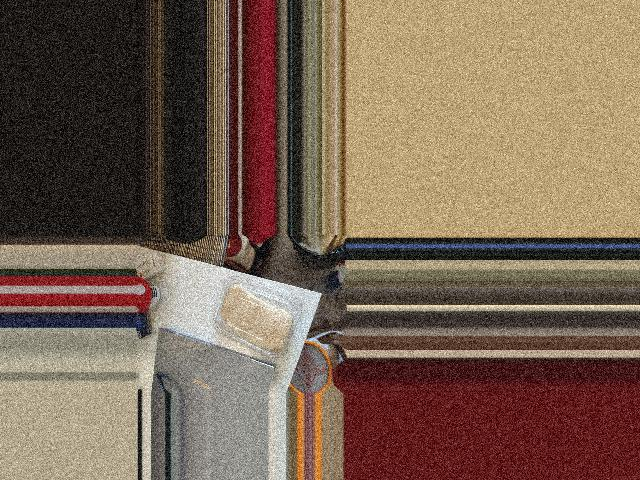cheese: (208, 275, 309, 359)
